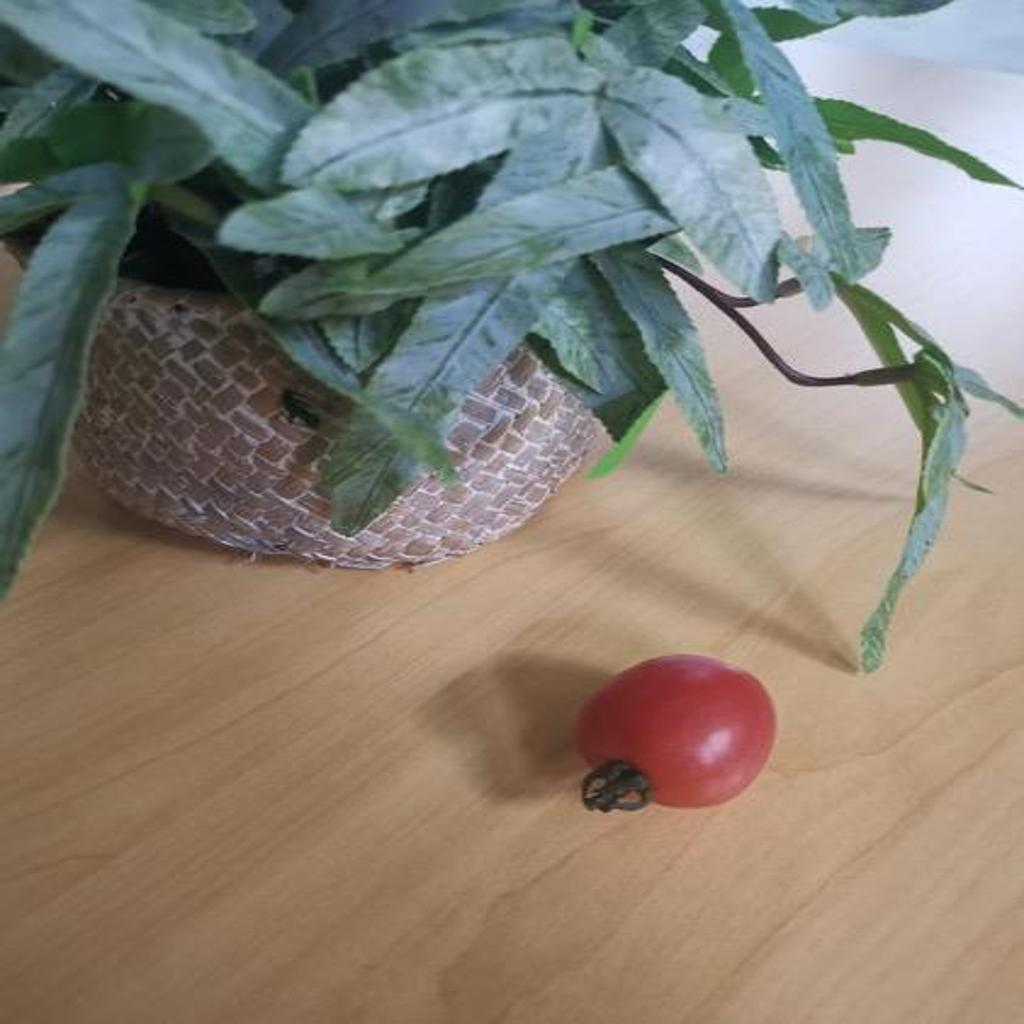tomato: (580, 643, 777, 818)
